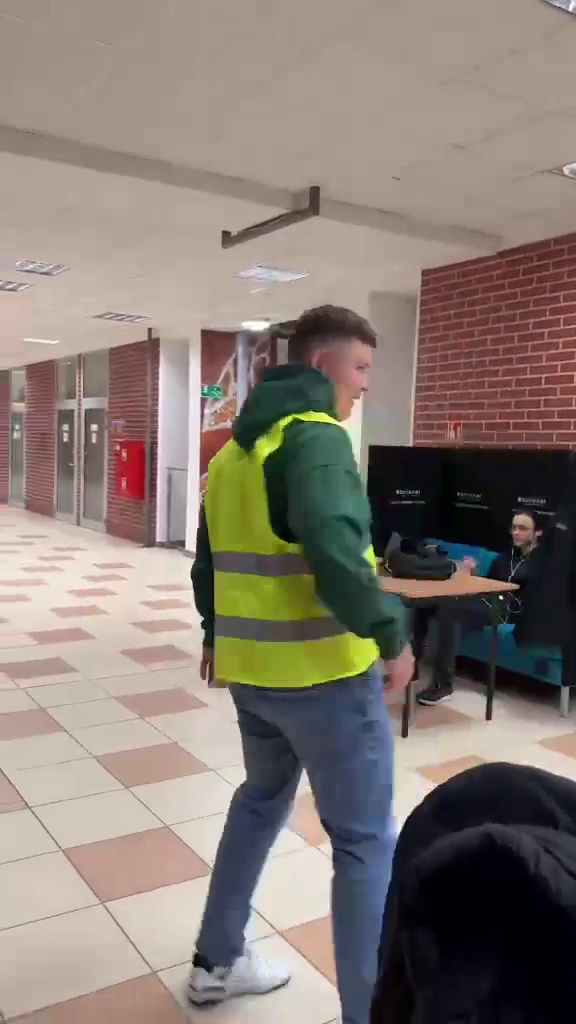no vest: (433, 497, 556, 664)
vest: (177, 292, 426, 992)
